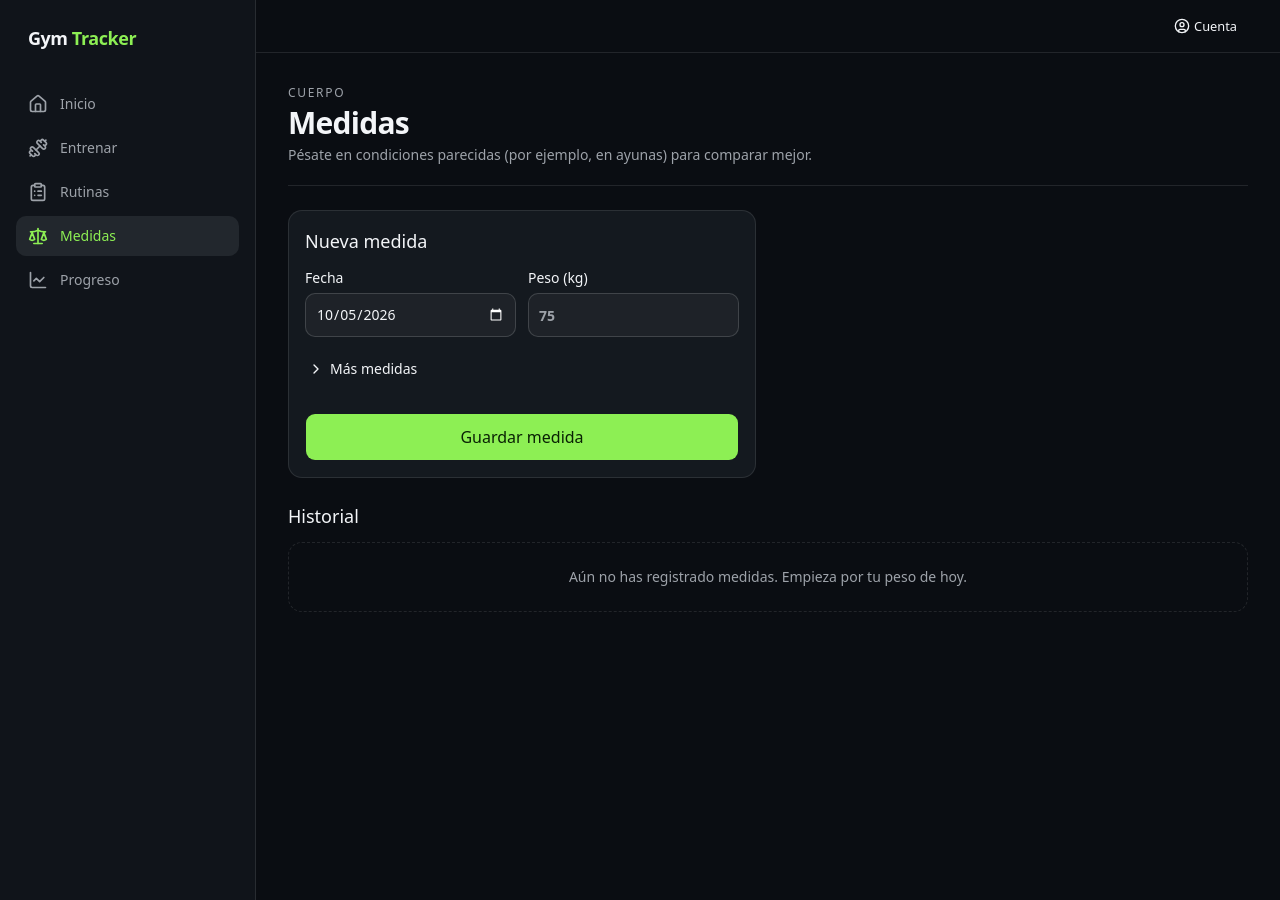
Test case: Measurements › logs today's weight
The width and height of the screenshot is (1280, 900).
Expected: the text "Aún no has registrado medidas. Empieza por tu peso de hoy." is shown, x1=288 y1=542 x2=1248 y2=612
In the field labelled "Peso (kg)": (634, 315) x1=528 y1=293 x2=739 y2=337, type "78,4"
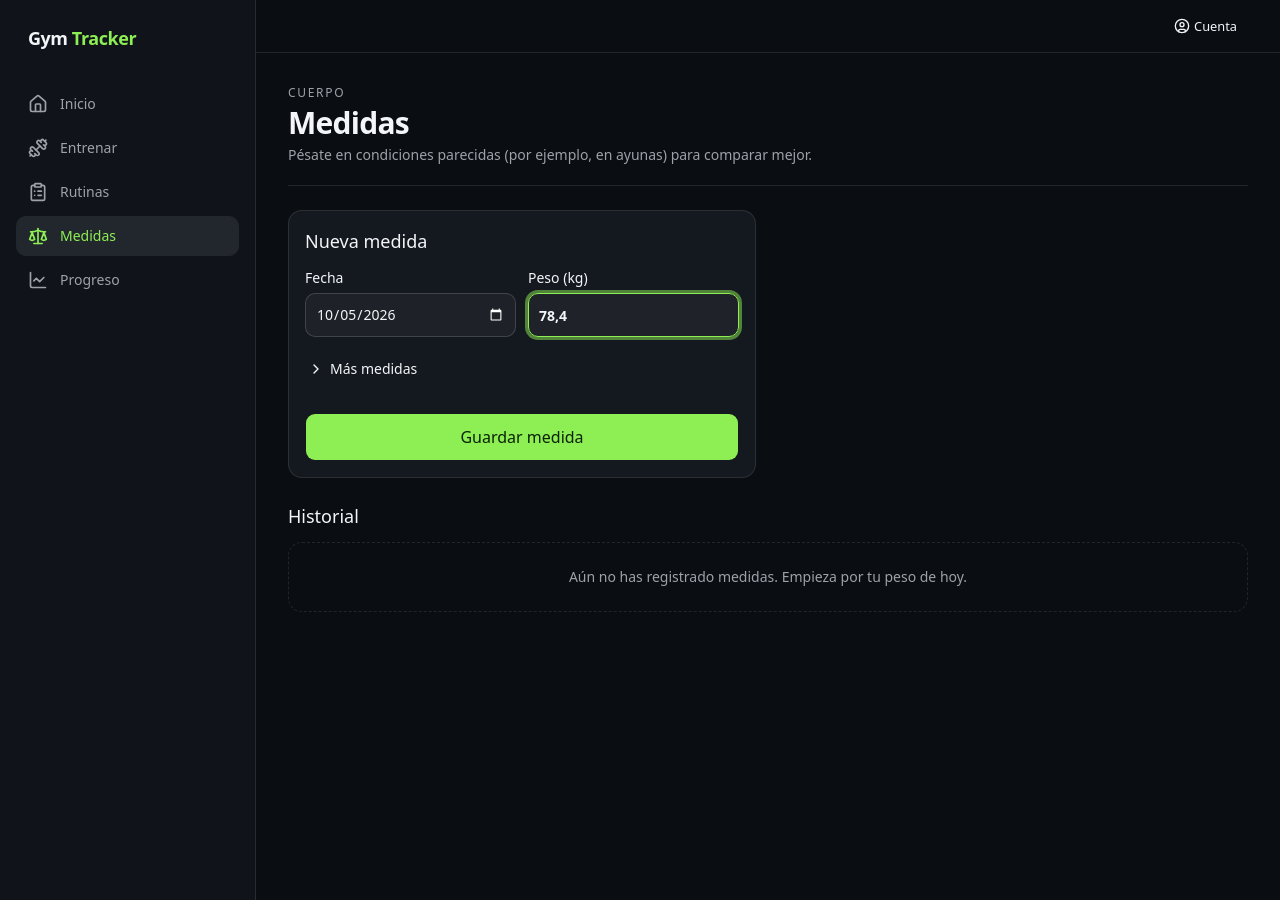
Click the button "Guardar medida": (522, 437) x1=305 y1=413 x2=739 y2=461
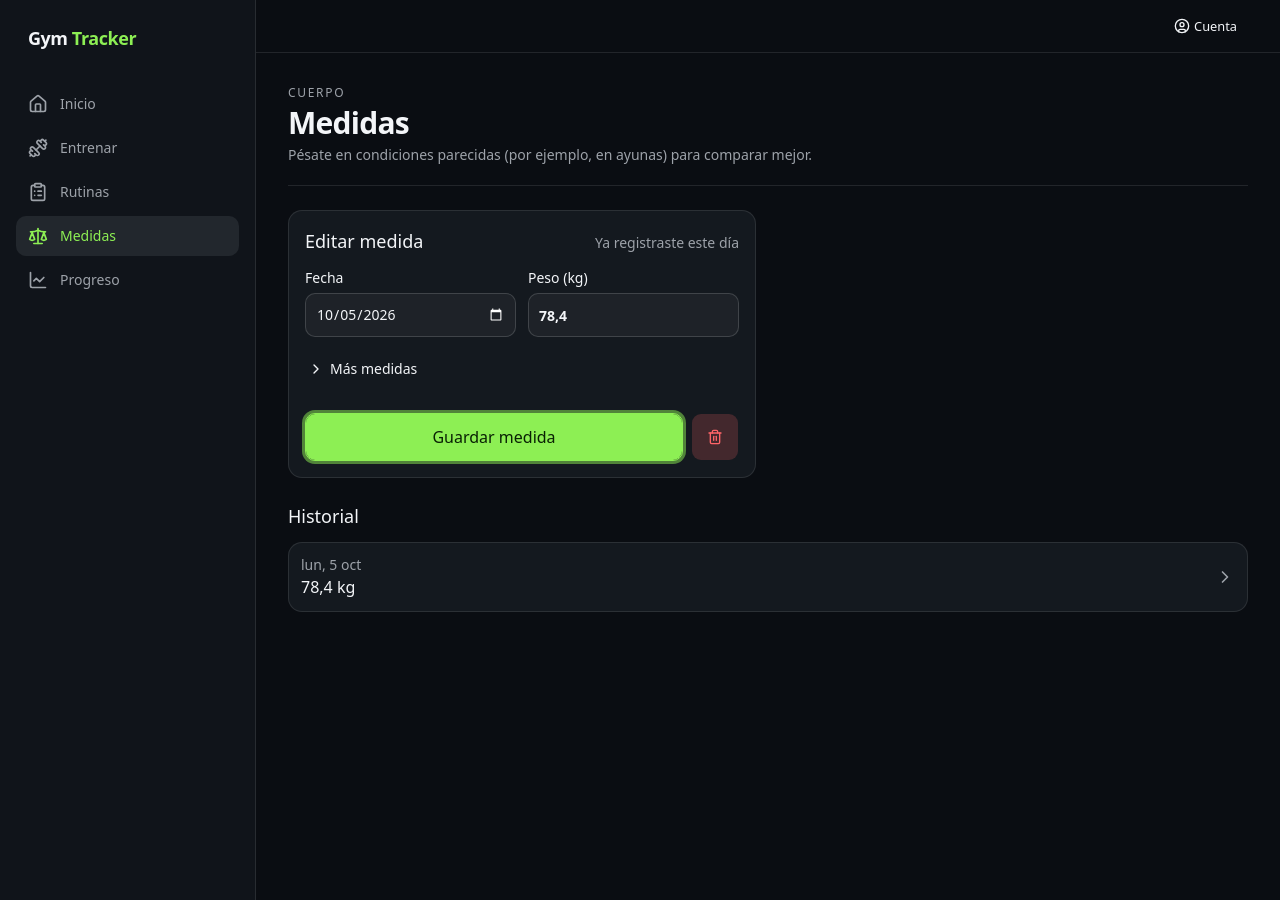
Result: the heading "Editar medida" is shown at x1=305 y1=227 x2=423 y2=255
Result: the button "lun, 5 oct 78,4 kg" is shown at x1=288 y1=542 x2=1248 y2=612
